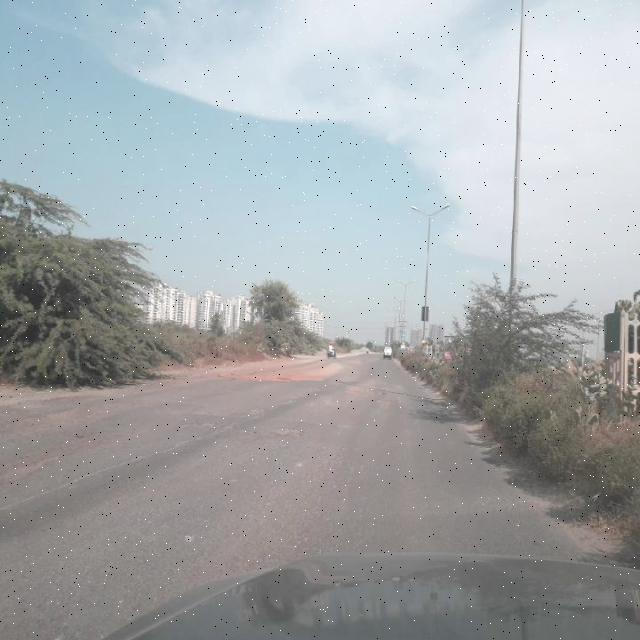D00: (2, 430, 220, 510)
D20: (220, 435, 378, 544)
D40: (0, 444, 64, 486), (229, 364, 327, 390), (166, 406, 222, 428), (244, 422, 300, 444), (342, 382, 396, 404)
